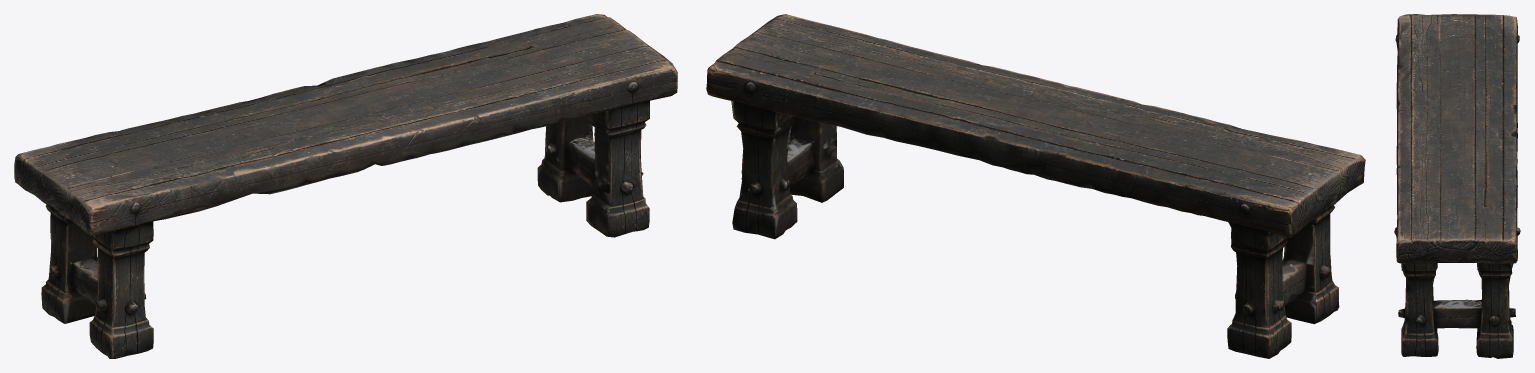
The model's file is Bench.fbx.
3 views of the same model, side by side, from view 1: azimuth 30°, elevation 25°; view 2: azimuth 150°, elevation 25°; view 3: azimuth 270°, elevation 25° (orthographic). The views are drawn at different scales.
Visible parts, largest first — view 1: texture_mapping; view 2: texture_mapping; view 3: texture_mapping.
Part boxes in pixels (x1,y1,x2,y2): texture_mapping: [14, 14, 677, 358]; texture_mapping: [706, 14, 1365, 358]; texture_mapping: [1394, 14, 1520, 358].
Bounding box in the file's own units: 99.66 × 26.47 × 23.47.
1 material, 1 textured.
